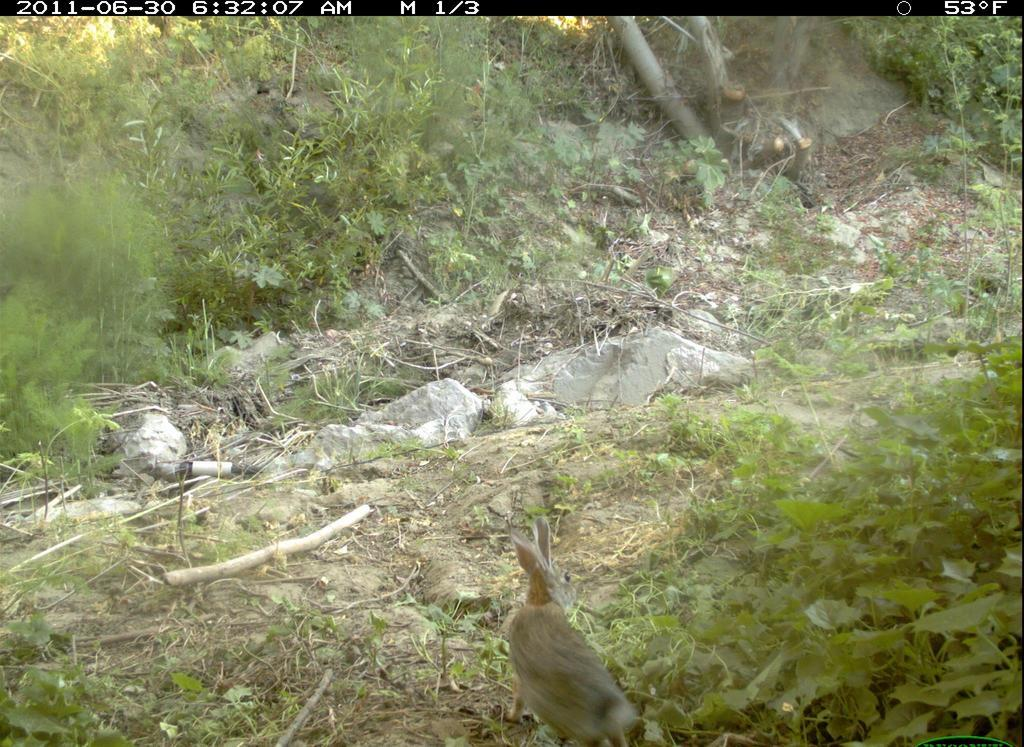rabbit: (501, 515, 655, 743)
